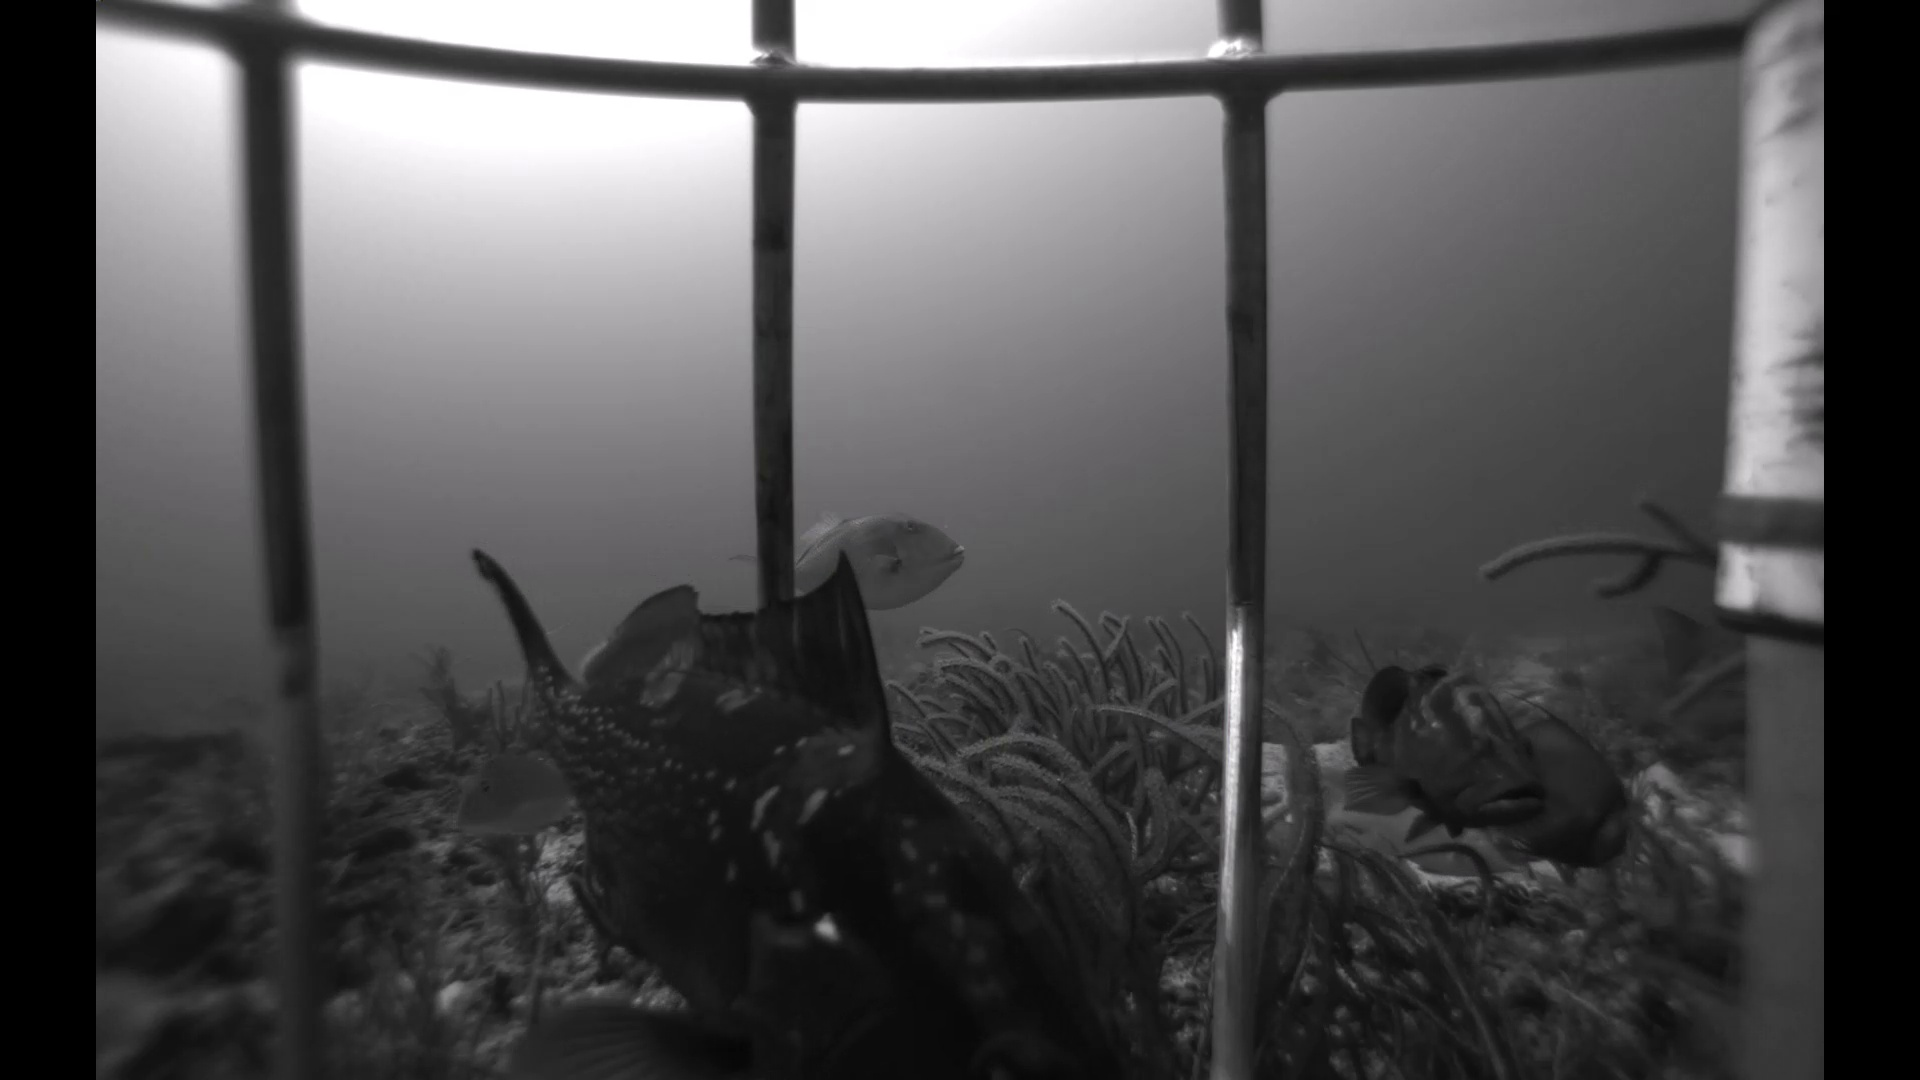BALISTESCAPRISCUS-189030502: (709, 487, 971, 621)
CALAMUSNODOSUS-170210608: (433, 727, 596, 862)
EPINEPHELUSMORIO-170021211: (419, 504, 1143, 1077), (1323, 644, 1555, 845)
LACHNOLAIMUSMAXIMUS-170281801: (1284, 752, 1516, 884)
LUTJANUSGRISEUS-170151109: (1640, 600, 1747, 711)
POMACANTHUSARCUATUS-170290201: (1489, 673, 1636, 874)
